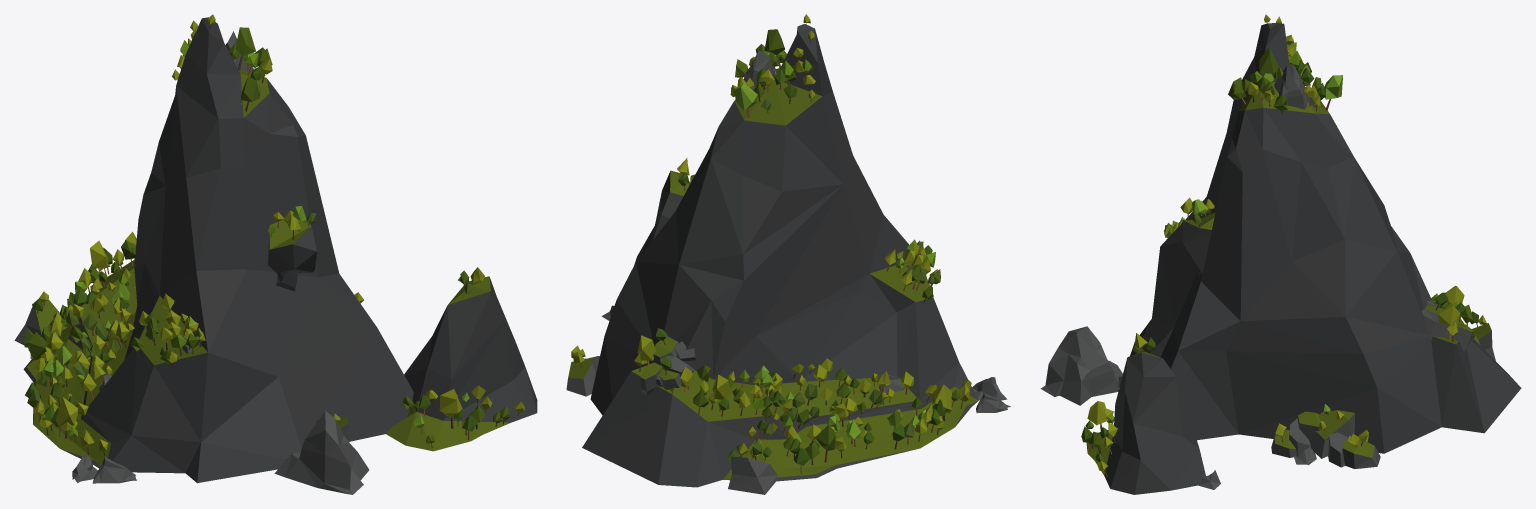
File: Open Ocean Island 6.fbx
The picture shows the model from 3 angles, left to right: view 1: azimuth 30°, elevation 25°; view 2: azimuth 150°, elevation 25°; view 3: azimuth 270°, elevation 25°; orthographic projection. The views are drawn at different scales.
Parts seen in each view (by area): view 1: Island 6, Island 2 trees; view 2: Island 6, Island 2 trees; view 3: Island 6, Island 2 trees.
Part boxes in pixels (x1,y1,x2,y2): Island 6: (14,17,537,494); Island 2 trees: (24,14,524,455); Island 6: (566,24,1010,494); Island 2 trees: (571,14,971,474); Island 6: (1040,23,1521,494); Island 2 trees: (1081,14,1487,476).
Size of the model in its own units: 7311 by 6474 by 7671.
